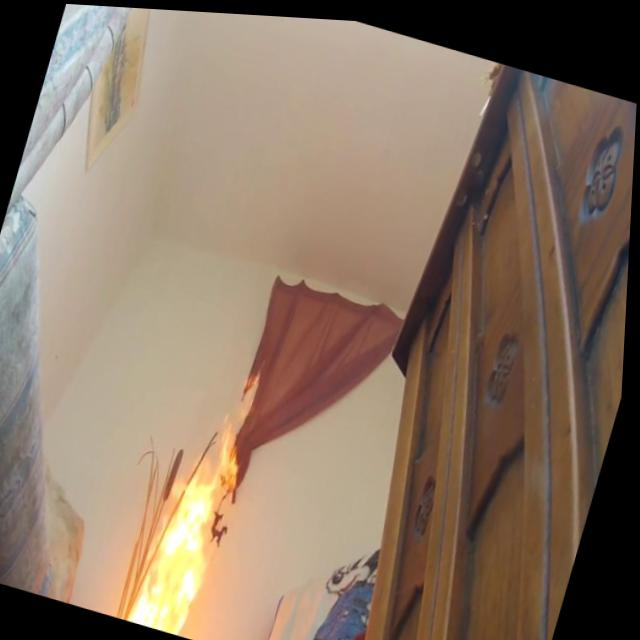fire: (128, 400, 261, 640)
